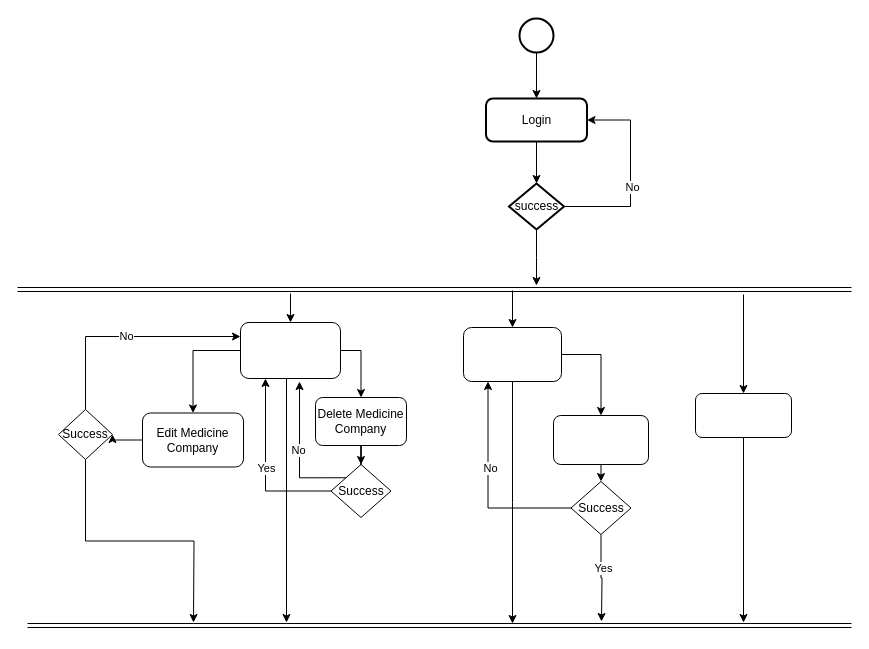
This 869x649 diagram has some shape labels left out. The shapes that lost their labels are listed below. From the top down, each one's box as (x1, y1, x2, y2) in pixels, then its label:
(240, 322, 340, 378): Medicine Company
(462, 326, 562, 382): Medicine Information
(694, 392, 792, 438): Patient Data Monitoring
(552, 414, 648, 464): Delete Medicine
